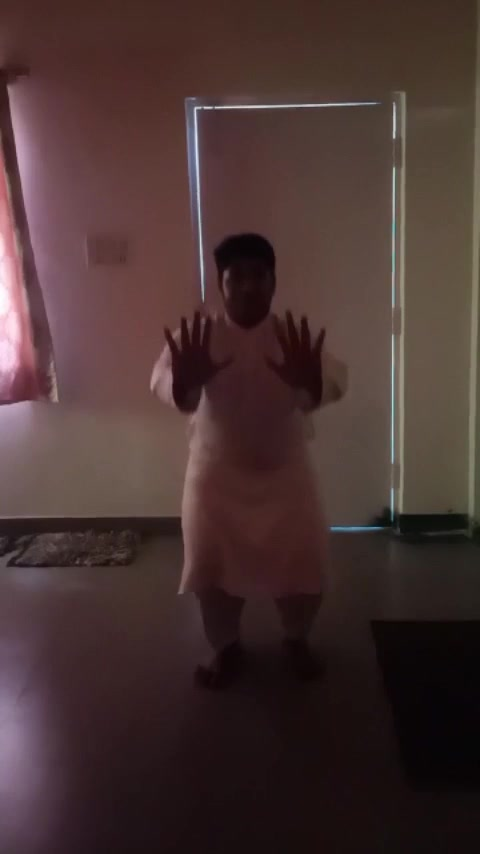duck: (147, 203, 357, 706)
